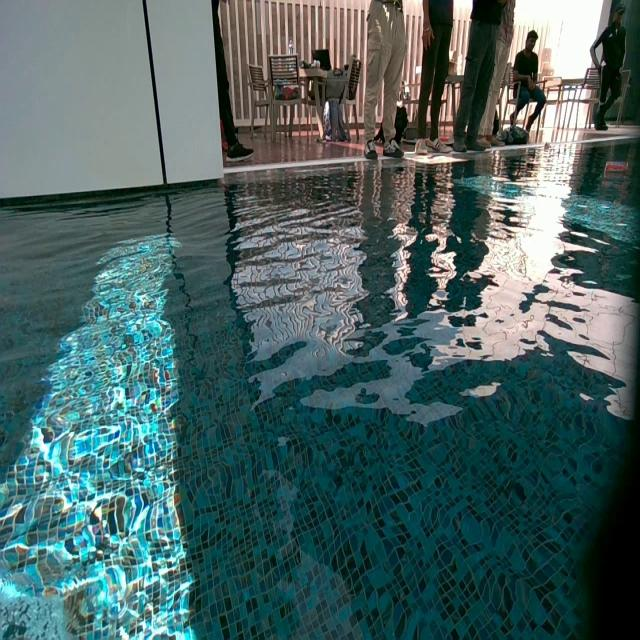Cans: (603, 162, 627, 179)
